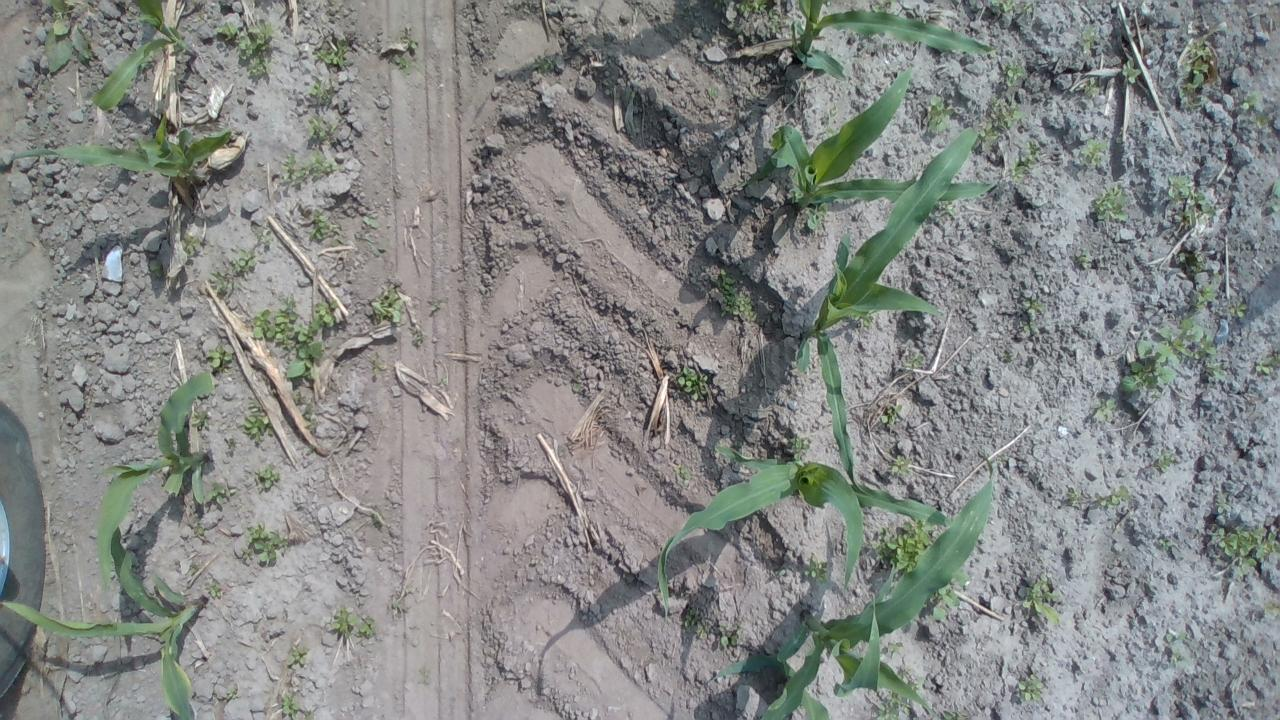Maize: (792, 127, 976, 493), (759, 451, 994, 720), (657, 444, 959, 616), (0, 525, 209, 720), (738, 66, 998, 208), (90, 371, 214, 591), (790, 0, 996, 78), (11, 117, 231, 180), (92, 0, 198, 115), (712, 652, 830, 720)
Weeds: (251, 295, 337, 380), (870, 519, 940, 573), (44, 0, 92, 74), (1212, 525, 1280, 577), (1120, 338, 1179, 396), (1160, 316, 1218, 360), (1166, 174, 1214, 226), (714, 269, 758, 321), (238, 21, 276, 78), (1178, 38, 1208, 110), (1022, 574, 1062, 626), (931, 570, 970, 620), (242, 523, 287, 564), (283, 149, 338, 180), (242, 400, 273, 444), (1093, 184, 1128, 222), (1010, 138, 1040, 182), (371, 284, 404, 324), (314, 38, 354, 70), (677, 366, 708, 402), (925, 96, 955, 132), (874, 691, 911, 720), (990, 96, 1021, 128), (306, 115, 338, 143), (1166, 631, 1191, 666), (331, 606, 357, 638), (1100, 485, 1132, 510), (896, 666, 924, 694), (684, 608, 710, 638), (253, 465, 280, 493), (972, 122, 999, 150), (205, 483, 237, 506), (1018, 674, 1044, 702), (1080, 138, 1107, 164), (804, 555, 828, 584), (206, 343, 232, 369), (230, 248, 256, 274), (1002, 58, 1026, 86), (308, 209, 329, 241), (209, 269, 234, 294), (309, 78, 334, 103), (1254, 352, 1280, 376), (806, 202, 828, 230), (396, 23, 419, 49), (1192, 284, 1216, 308), (1093, 398, 1118, 421), (280, 693, 300, 720), (720, 623, 743, 646), (1121, 61, 1142, 84), (180, 232, 200, 256), (215, 22, 239, 42), (880, 404, 902, 425), (890, 455, 911, 477), (734, 0, 768, 13), (287, 646, 309, 666), (870, 0, 897, 16), (1022, 296, 1046, 314), (1081, 25, 1098, 50), (302, 402, 317, 430), (824, 107, 838, 137), (1189, 250, 1204, 277), (788, 434, 809, 453), (532, 56, 556, 72), (190, 409, 210, 428), (936, 197, 956, 216), (1242, 91, 1262, 110), (357, 618, 375, 638), (394, 54, 412, 74), (768, 8, 782, 33), (1227, 301, 1247, 318), (990, 0, 1020, 11), (1158, 450, 1173, 472), (255, 227, 273, 245), (852, 312, 875, 326), (206, 578, 222, 598), (1084, 77, 1100, 96), (392, 599, 412, 614), (1271, 180, 1280, 213), (1206, 361, 1224, 377), (1264, 600, 1280, 618), (362, 215, 380, 231), (1079, 248, 1092, 270), (330, 224, 343, 246), (672, 466, 692, 480), (904, 354, 924, 368), (1216, 493, 1230, 513), (1066, 487, 1080, 507), (1251, 112, 1269, 127), (941, 710, 968, 720), (371, 352, 383, 374), (886, 641, 904, 655), (291, 390, 305, 406), (706, 84, 720, 99), (148, 264, 163, 278), (372, 244, 388, 256), (1158, 538, 1173, 550), (429, 298, 441, 311), (192, 522, 204, 534), (226, 437, 236, 451), (1022, 4, 1034, 15), (1000, 352, 1013, 362), (226, 689, 238, 699), (412, 333, 422, 345), (1178, 252, 1187, 263), (302, 713, 316, 720), (1022, 324, 1036, 330), (439, 378, 448, 387), (628, 90, 636, 98), (573, 384, 581, 391)
